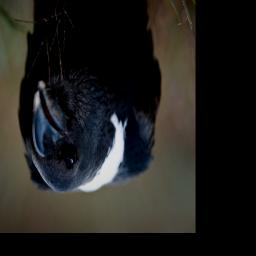Crow: (18, 1, 160, 195)
